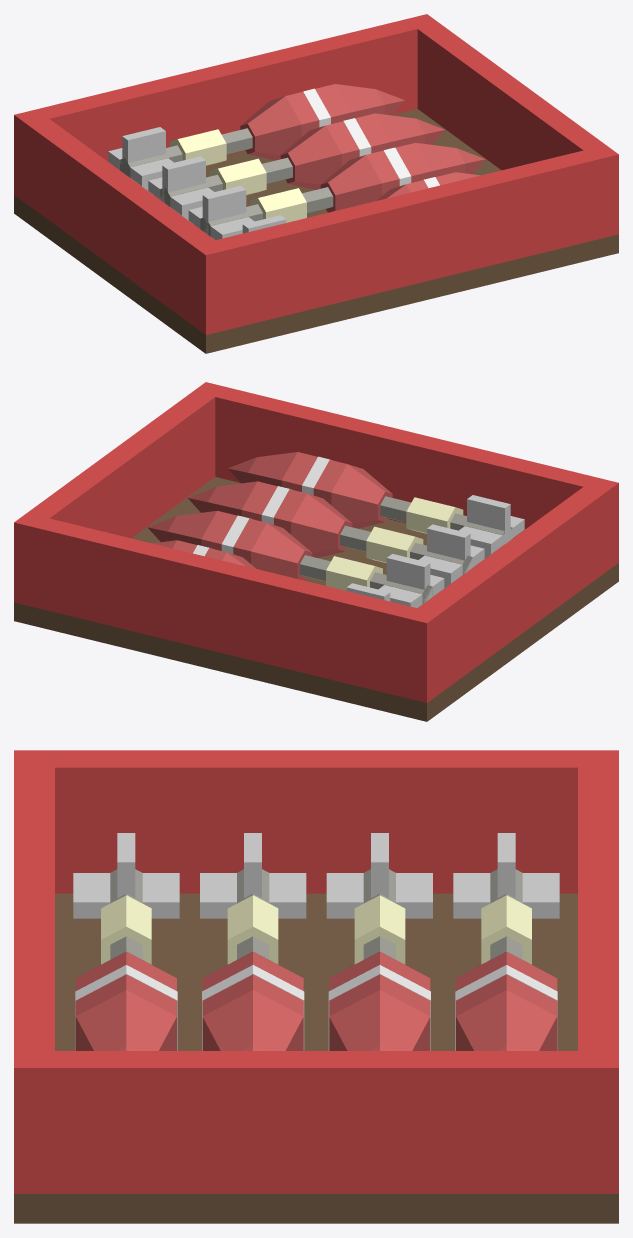
Rendered from ce_ammo_mortar_firefoam_c.obj.
The picture shows the model from 3 angles, top to bottom: view 1: azimuth 30°, elevation 25°; view 2: azimuth 150°, elevation 25°; view 3: azimuth 270°, elevation 25°; orthographic projection. The views are drawn at different scales.
Parts seen in each view (by area): view 1: ce_ammo_mortar_firefoam_c_3, ce_ammo_mortar_firefoam_c_1, ce_ammo_mortar_firefoam_c_4, ce_ammo_mortar_firefoam_c_2, ce_ammo_mortar_firefoam_c_0, ce_ammo_mortar_firefoam_c_37, ce_ammo_mortar_firefoam_c_27, ce_ammo_mortar_firefoam_c_17, ce_ammo_mortar_firefoam_c_36, ce_ammo_mortar_firefoam_c_24, ce_ammo_mortar_firefoam_c_26, ce_ammo_mortar_firefoam_c_34 (+20 smaller); view 2: ce_ammo_mortar_firefoam_c_4, ce_ammo_mortar_firefoam_c_1, ce_ammo_mortar_firefoam_c_3, ce_ammo_mortar_firefoam_c_2, ce_ammo_mortar_firefoam_c_0, ce_ammo_mortar_firefoam_c_7, ce_ammo_mortar_firefoam_c_17, ce_ammo_mortar_firefoam_c_27, ce_ammo_mortar_firefoam_c_14, ce_ammo_mortar_firefoam_c_6, ce_ammo_mortar_firefoam_c_16, ce_ammo_mortar_firefoam_c_26 (+20 smaller); view 3: ce_ammo_mortar_firefoam_c_2, ce_ammo_mortar_firefoam_c_1, ce_ammo_mortar_firefoam_c_0, ce_ammo_mortar_firefoam_c_3, ce_ammo_mortar_firefoam_c_4, ce_ammo_mortar_firefoam_c_21, ce_ammo_mortar_firefoam_c_31, ce_ammo_mortar_firefoam_c_11, ce_ammo_mortar_firefoam_c_41, ce_ammo_mortar_firefoam_c_13, ce_ammo_mortar_firefoam_c_43, ce_ammo_mortar_firefoam_c_23 (+25 smaller).
Part boxes in pixels (bbox=[...]): ce_ammo_mortar_firefoam_c_3: bbox=[216, 150, 596, 329]; ce_ammo_mortar_firefoam_c_1: bbox=[14, 109, 228, 334]; ce_ammo_mortar_firefoam_c_4: bbox=[37, 19, 417, 169]; ce_ammo_mortar_firefoam_c_2: bbox=[405, 14, 618, 239]; ce_ammo_mortar_firefoam_c_0: bbox=[14, 109, 618, 353]; ce_ammo_mortar_firefoam_c_37: bbox=[240, 96, 301, 160]; ce_ammo_mortar_firefoam_c_27: bbox=[280, 125, 341, 189]; ce_ammo_mortar_firefoam_c_17: bbox=[320, 155, 381, 212]; ce_ammo_mortar_firefoam_c_36: bbox=[169, 129, 226, 165]; ce_ammo_mortar_firefoam_c_24: bbox=[202, 186, 246, 240]; ce_ammo_mortar_firefoam_c_26: bbox=[209, 158, 266, 194]; ce_ammo_mortar_firefoam_c_34: bbox=[162, 156, 205, 224]; ce_ammo_mortar_firefoam_c_4: bbox=[36, 518, 416, 697]; ce_ammo_mortar_firefoam_c_1: bbox=[404, 477, 618, 702]; ce_ammo_mortar_firefoam_c_3: bbox=[215, 387, 595, 537]; ce_ammo_mortar_firefoam_c_2: bbox=[14, 382, 227, 607]; ce_ammo_mortar_firefoam_c_0: bbox=[14, 477, 618, 721]; ce_ammo_mortar_firefoam_c_7: bbox=[331, 464, 392, 528]; ce_ammo_mortar_firefoam_c_17: bbox=[291, 493, 352, 557]; ce_ammo_mortar_firefoam_c_27: bbox=[251, 523, 312, 580]; ce_ammo_mortar_firefoam_c_14: bbox=[467, 495, 510, 562]; ce_ammo_mortar_firefoam_c_6: bbox=[406, 497, 463, 533]; ce_ammo_mortar_firefoam_c_16: bbox=[366, 526, 423, 562]; ce_ammo_mortar_firefoam_c_26: bbox=[326, 556, 382, 590]; ce_ammo_mortar_firefoam_c_2: bbox=[14, 1051, 618, 1193]; ce_ammo_mortar_firefoam_c_1: bbox=[14, 750, 618, 893]; ce_ammo_mortar_firefoam_c_0: bbox=[14, 893, 618, 1223]; ce_ammo_mortar_firefoam_c_3: bbox=[14, 767, 54, 1050]; ce_ammo_mortar_firefoam_c_4: bbox=[578, 767, 618, 1050]; ce_ammo_mortar_firefoam_c_21: bbox=[202, 990, 303, 1050]; ce_ammo_mortar_firefoam_c_31: bbox=[329, 990, 430, 1050]; ce_ammo_mortar_firefoam_c_11: bbox=[75, 990, 176, 1050]; ce_ammo_mortar_firefoam_c_41: bbox=[456, 990, 557, 1050]; ce_ammo_mortar_firefoam_c_13: bbox=[73, 873, 179, 918]; ce_ammo_mortar_firefoam_c_43: bbox=[453, 873, 559, 918]; ce_ammo_mortar_firefoam_c_23: bbox=[200, 873, 306, 918].
Size of the model in its own units: 0.92 by 0.21 by 0.74.
